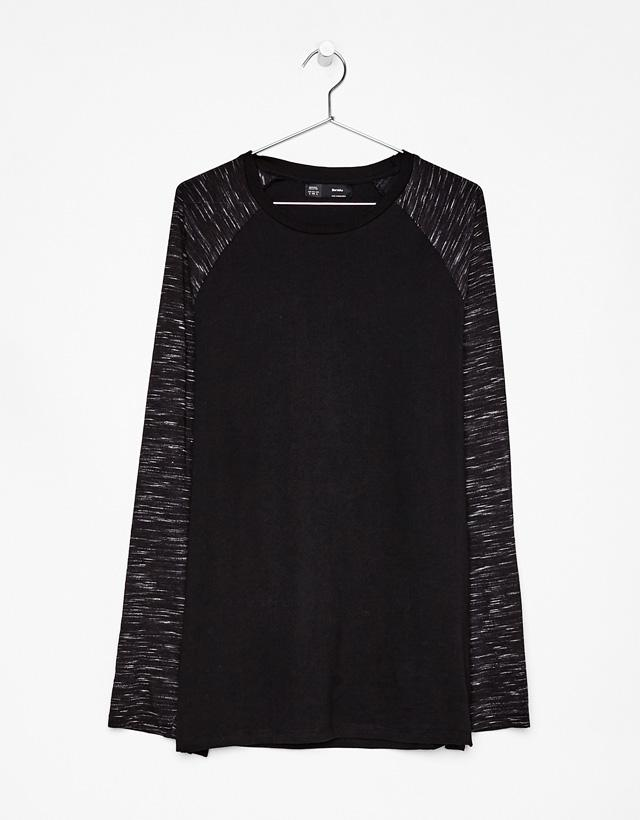teeshirt: (8, 8, 632, 812)
